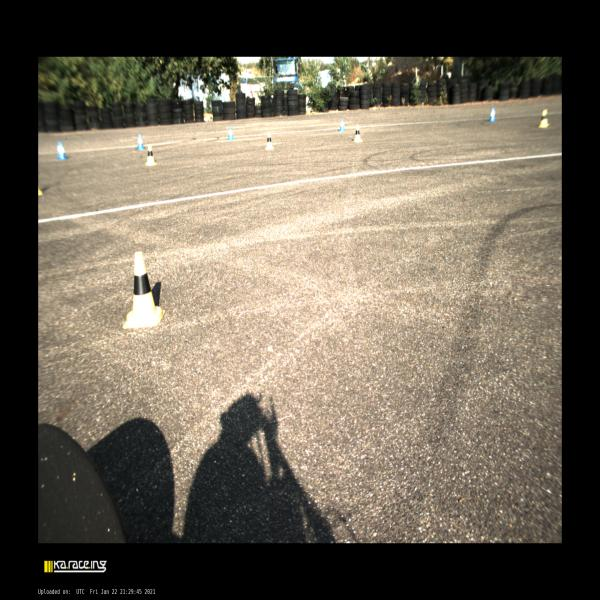blue_cone: (56, 142, 68, 160), (136, 134, 144, 150), (227, 126, 234, 140), (339, 118, 346, 131), (490, 108, 496, 121)
yellow_cone: (122, 251, 165, 329), (145, 144, 157, 165), (353, 125, 363, 142), (539, 110, 548, 128), (265, 132, 274, 149)
